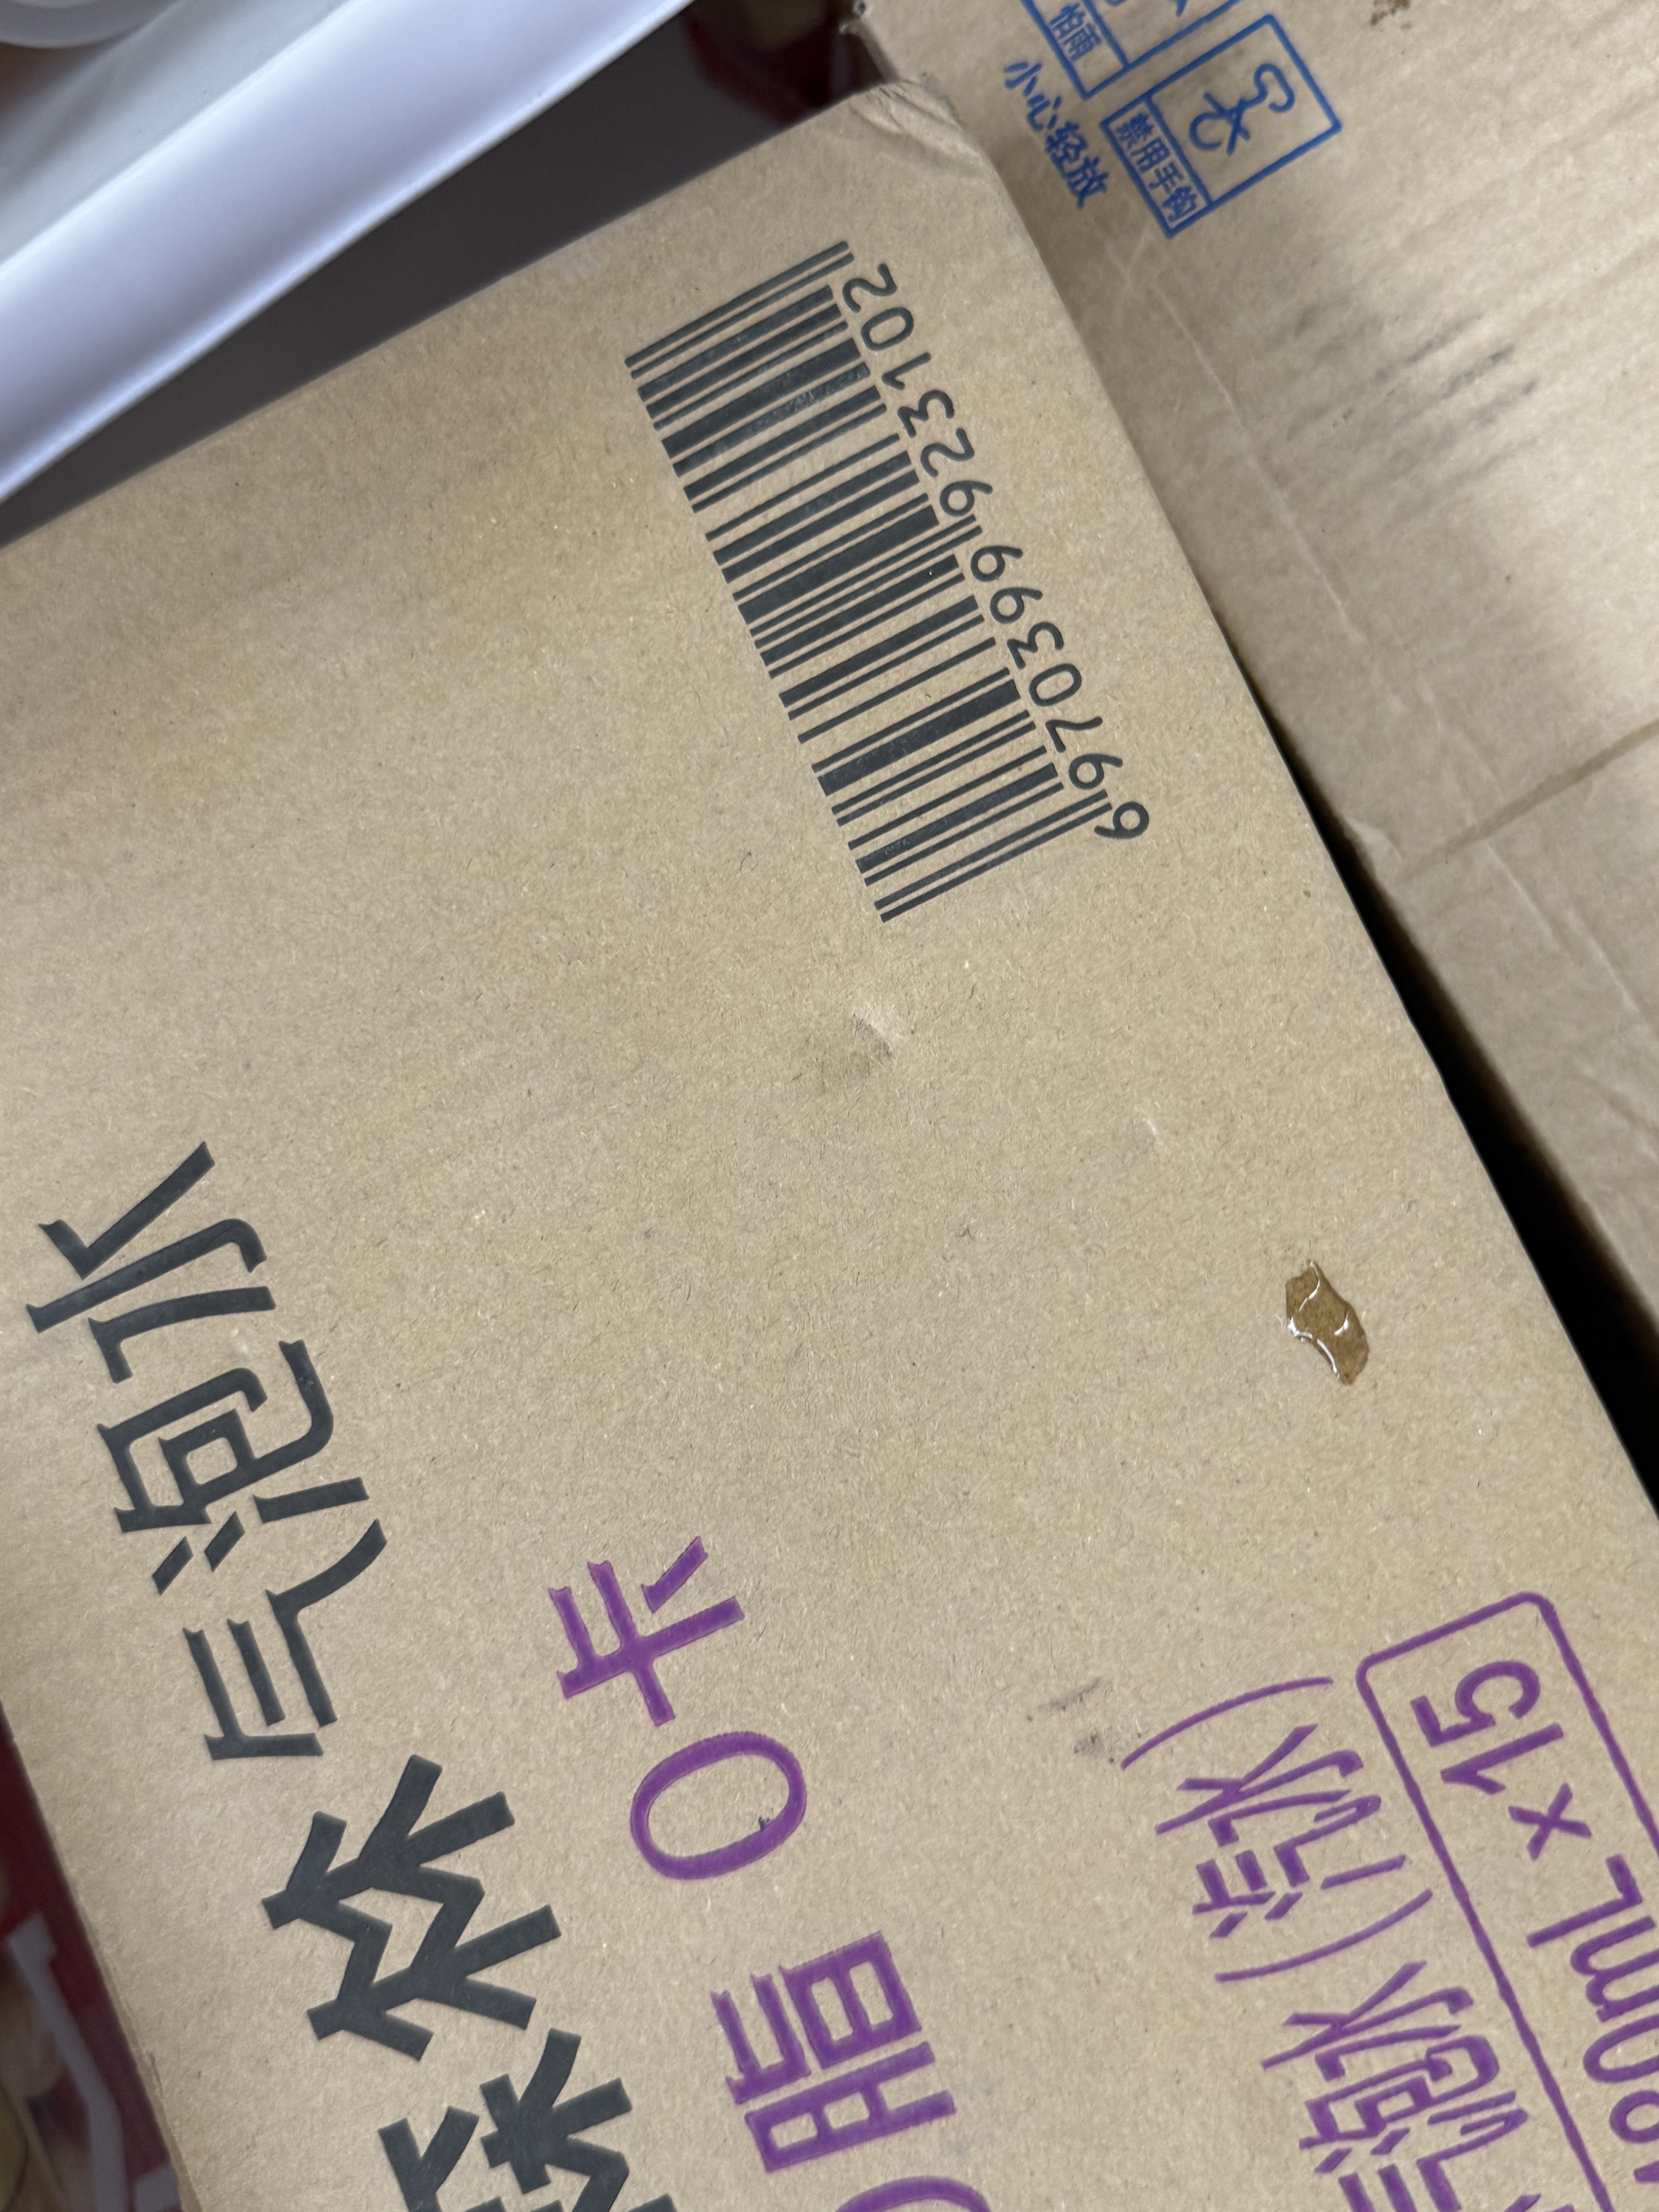bar: (613, 232, 1127, 930)
